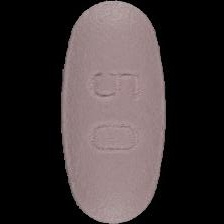0131-2477: (0, 0, 224, 224)
